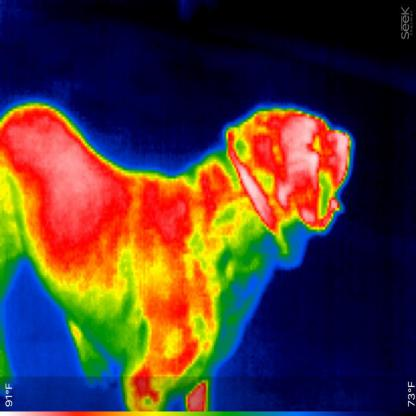dog: (1, 94, 360, 411)
